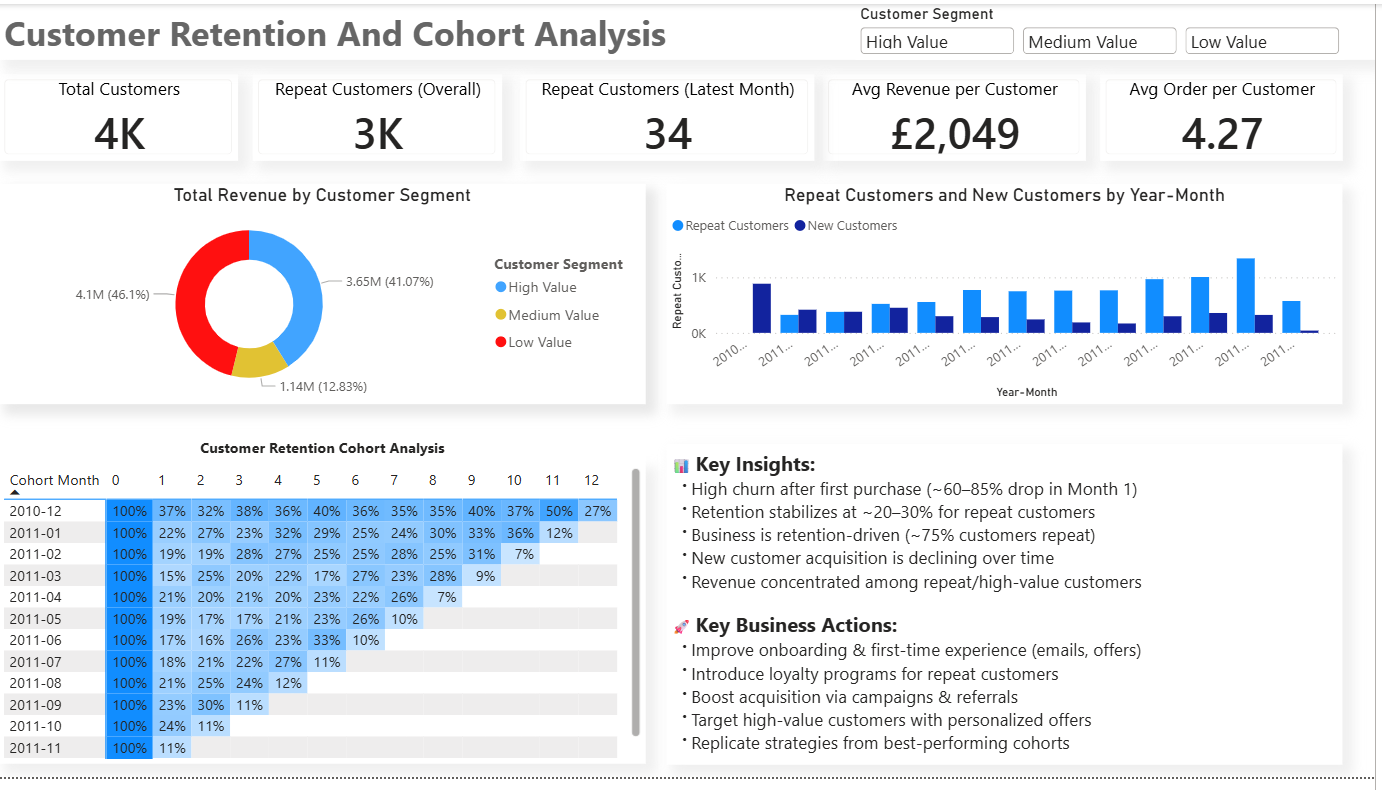

This screenshot's page, from the dashboard's own definition file:
{"tool":"powerbi","page":{"name":"Customer Intelligence","canvas":[2200,1400],"ordinal":1},"visuals":[{"type":"textbox","box":[0,0,2200.4,89],"z":0},{"type":"shape","box":[17.5,105.1,420.4,1278.7],"z":1000},{"type":"textbox","box":[17.5,201.4,409.4,188.3],"z":2000},{"type":"shape","box":[466.4,341.3,920,483.3],"z":3000},{"type":"shape","box":[466.4,838.6,825.4,545.2],"z":4000},{"type":"shape","box":[1405.5,341.3,773.8,483.3],"z":5000},{"type":"shape","box":[1307.1,838.6,871.4,545.2],"z":6000},{"type":"cardVisual","fields":{"Data":["_Measures.New Cust Count","_Measures.Repeat Cust Count","_Measures.Avg Revenue per Customer","_Measures.RR%"]},"box":[466.4,105.1,1712.2,201.4],"z":7000},{"type":"textbox","box":[757.6,157.6,83.2,65.7],"z":8000},{"type":"textbox","box":[1193.3,146.7,74.4,65.7],"z":9000},{"type":"textbox","box":[1618,179.5,113.9,65.7],"z":10000},{"type":"textbox","box":[2042.8,144.5,59.1,67.9],"z":11000},{"type":"pivotTable","title":"Customer Retention Cohort Analysis","fields":{"Rows":["vw_Customer_Cohorts.Cohort_Date"],"Values":["select","_Measures.Cohort Retention %"],"Columns":["vw_Customer_Cohorts.Cohort_Age_Months"]},"box":[496.1,356.1,862.8,436.7],"z":12000},{"type":"donutChart","title":"Customer Distribution By Segment","fields":{"Category":["vw_Customer_RFM_Segments.WholeSale_Segment"],"Y":["Count(vw_Customer_RFM_Segments.Customer_ID)"]},"box":[1423.2,356.9,735.7,435.7],"z":13000},{"type":"clusteredBarChart","title":"Revenue By Customer Segment","fields":{"Category":["vw_Customer_RFM_Segments.WholeSale_Segment"],"Y":["Sum(vw_Customer_RFM_Segments.Monetary)"]},"box":[1337.8,858.3,840.8,525.5],"z":14000},{"type":"tableEx","title":"Cohort Revenue Performance","fields":{"Values":["vw_Customer_Cohorts.Cohort_Date","_Measures.Cohort Size","Dim_Date.Revenue(M)"]},"box":[505.8,858.3,761.9,501.4],"z":15000},{"type":"textbox","box":[41.6,602.1,372.2,83.2],"z":16000},{"type":"textbox","box":[39.4,766.3,409.4,94.1],"z":17000},{"type":"textbox","box":[39.4,939.3,356.9,94.1],"z":18000},{"type":"textbox","box":[32.8,1121,372.2,96.3],"z":19000},{"type":"textbox","box":[41.6,420.4,359.1,162],"z":20000},{"type":"shape","box":[1451.6,0,238.7,85.4],"z":21000},{"type":"shape","box":[1701.2,0,238.7,85.4],"z":22000},{"type":"shape","box":[1953,0,238.7,85.4],"z":23000},{"type":"slicer","fields":{"Values":["Dim_Date.Year"]},"box":[1462.6,10.9,227.7,65.7],"z":24000},{"type":"slicer","fields":{"Values":["Dim_Country.Country"]},"box":[1718.8,10.9,203.6,65.7],"z":25000},{"type":"slicer","fields":{"Values":["vw_Customer_RFM_Segments.WholeSale_Segment"]},"box":[1953.4,5.3,239.2,78.9],"z":26000}]}

Visuals, with their boxes on the page's 2200x1400 design canvas (x1, y1, x2, y2). These are canvas units, not pixel positions in the 1382x790 screenshot, which may show the page scaled, cropped or inside an application window:
textbox: (0,0,2200,89)
shape: (18,105,438,1384)
textbox: (18,201,427,390)
shape: (466,341,1386,825)
shape: (466,839,1292,1384)
shape: (1406,341,2179,825)
shape: (1307,839,2178,1384)
cardVisual - _Measures.New Cust Count x _Measures.Repeat Cust Count: (466,105,2179,306)
textbox: (758,158,841,223)
textbox: (1193,147,1268,212)
textbox: (1618,180,1732,245)
textbox: (2043,144,2102,212)
"Customer Retention Cohort Analysis" pivotTable: (496,356,1359,793)
"Customer Distribution By Segment" donutChart: (1423,357,2159,793)
"Revenue By Customer Segment" clusteredBarChart: (1338,858,2179,1384)
"Cohort Revenue Performance" tableEx: (506,858,1268,1360)
textbox: (42,602,414,685)
textbox: (39,766,449,860)
textbox: (39,939,396,1033)
textbox: (33,1121,405,1217)
textbox: (42,420,401,582)
shape: (1452,0,1690,85)
shape: (1701,0,1940,85)
shape: (1953,0,2192,85)
slicer - Dim_Date.Year: (1463,11,1690,77)
slicer - Dim_Country.Country: (1719,11,1922,77)
slicer - vw_Customer_RFM_Segments.WholeSale_Segment: (1953,5,2193,84)
